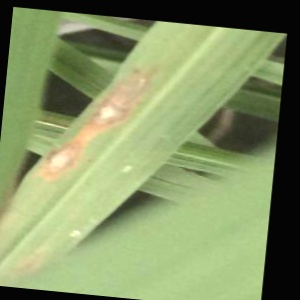Brown_Spot: (86, 59, 159, 135), (36, 137, 88, 182)
